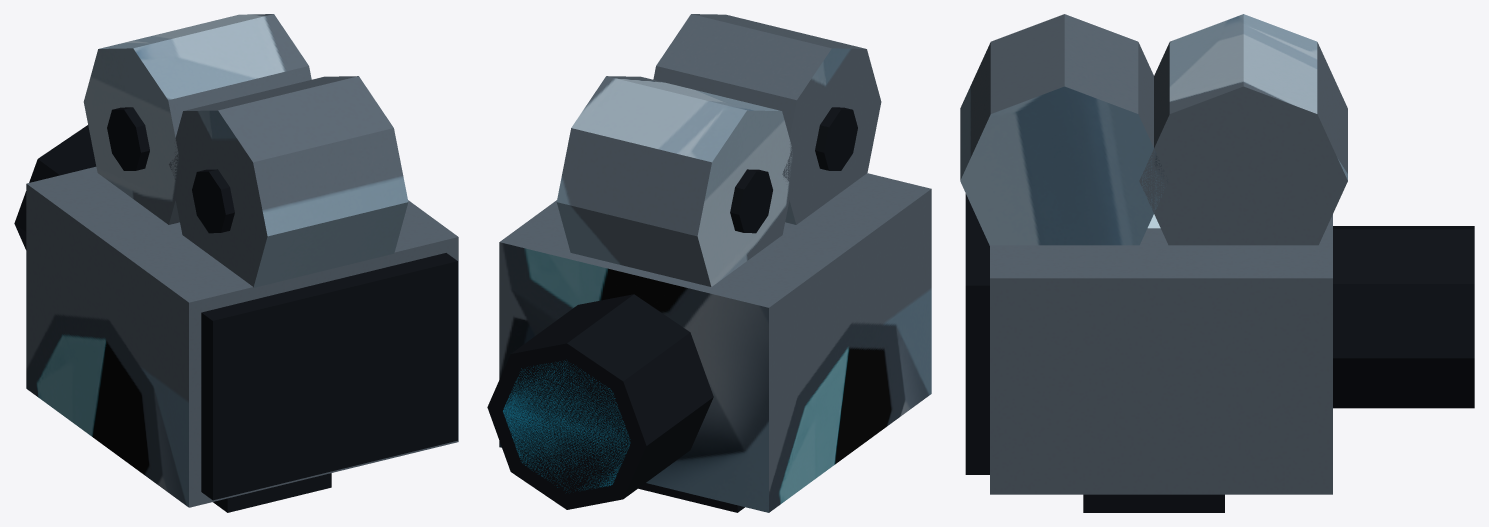
File: camera.obj
3 renders of one model, left to right at view 1: azimuth 30°, elevation 25°; view 2: azimuth 150°, elevation 25°; view 3: azimuth 270°, elevation 25°, orthographic. The views are drawn at different scales.
Visible parts, largest first — view 1: Camera_Position_Marker; view 2: Camera_Position_Marker; view 3: Camera_Position_Marker.
Part boxes in pixels (x1=…): Camera_Position_Marker: x1=14, y1=14, x2=458, y2=512; Camera_Position_Marker: x1=487, y1=14, x2=931, y2=512; Camera_Position_Marker: x1=960, y1=14, x2=1474, y2=512.
Size of the model in its own units: 0.44 by 0.645 by 0.69.
